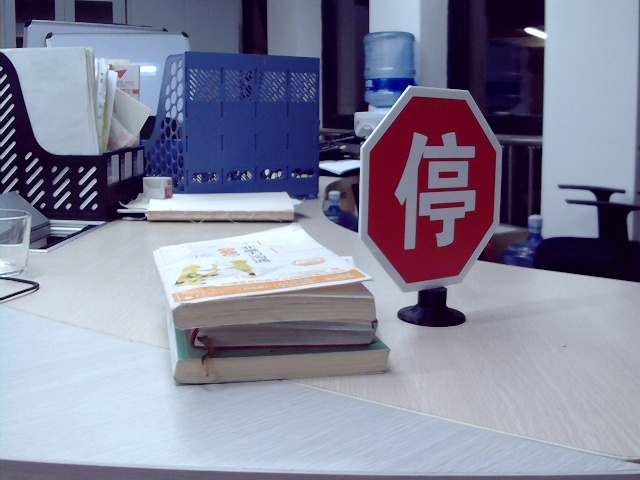stop: (390, 128, 480, 251)
